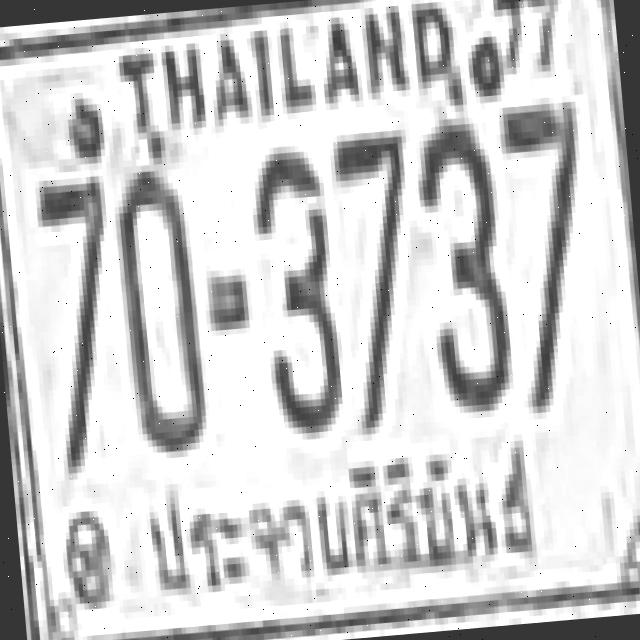0: (111, 165, 208, 451)
3: (412, 115, 510, 408), (247, 143, 340, 429)
7: (498, 95, 596, 407), (327, 123, 426, 429), (34, 175, 123, 468), (327, 126, 422, 386), (327, 123, 417, 324), (36, 172, 118, 379)
PrachuapKhiriKhan: (133, 439, 549, 601)
